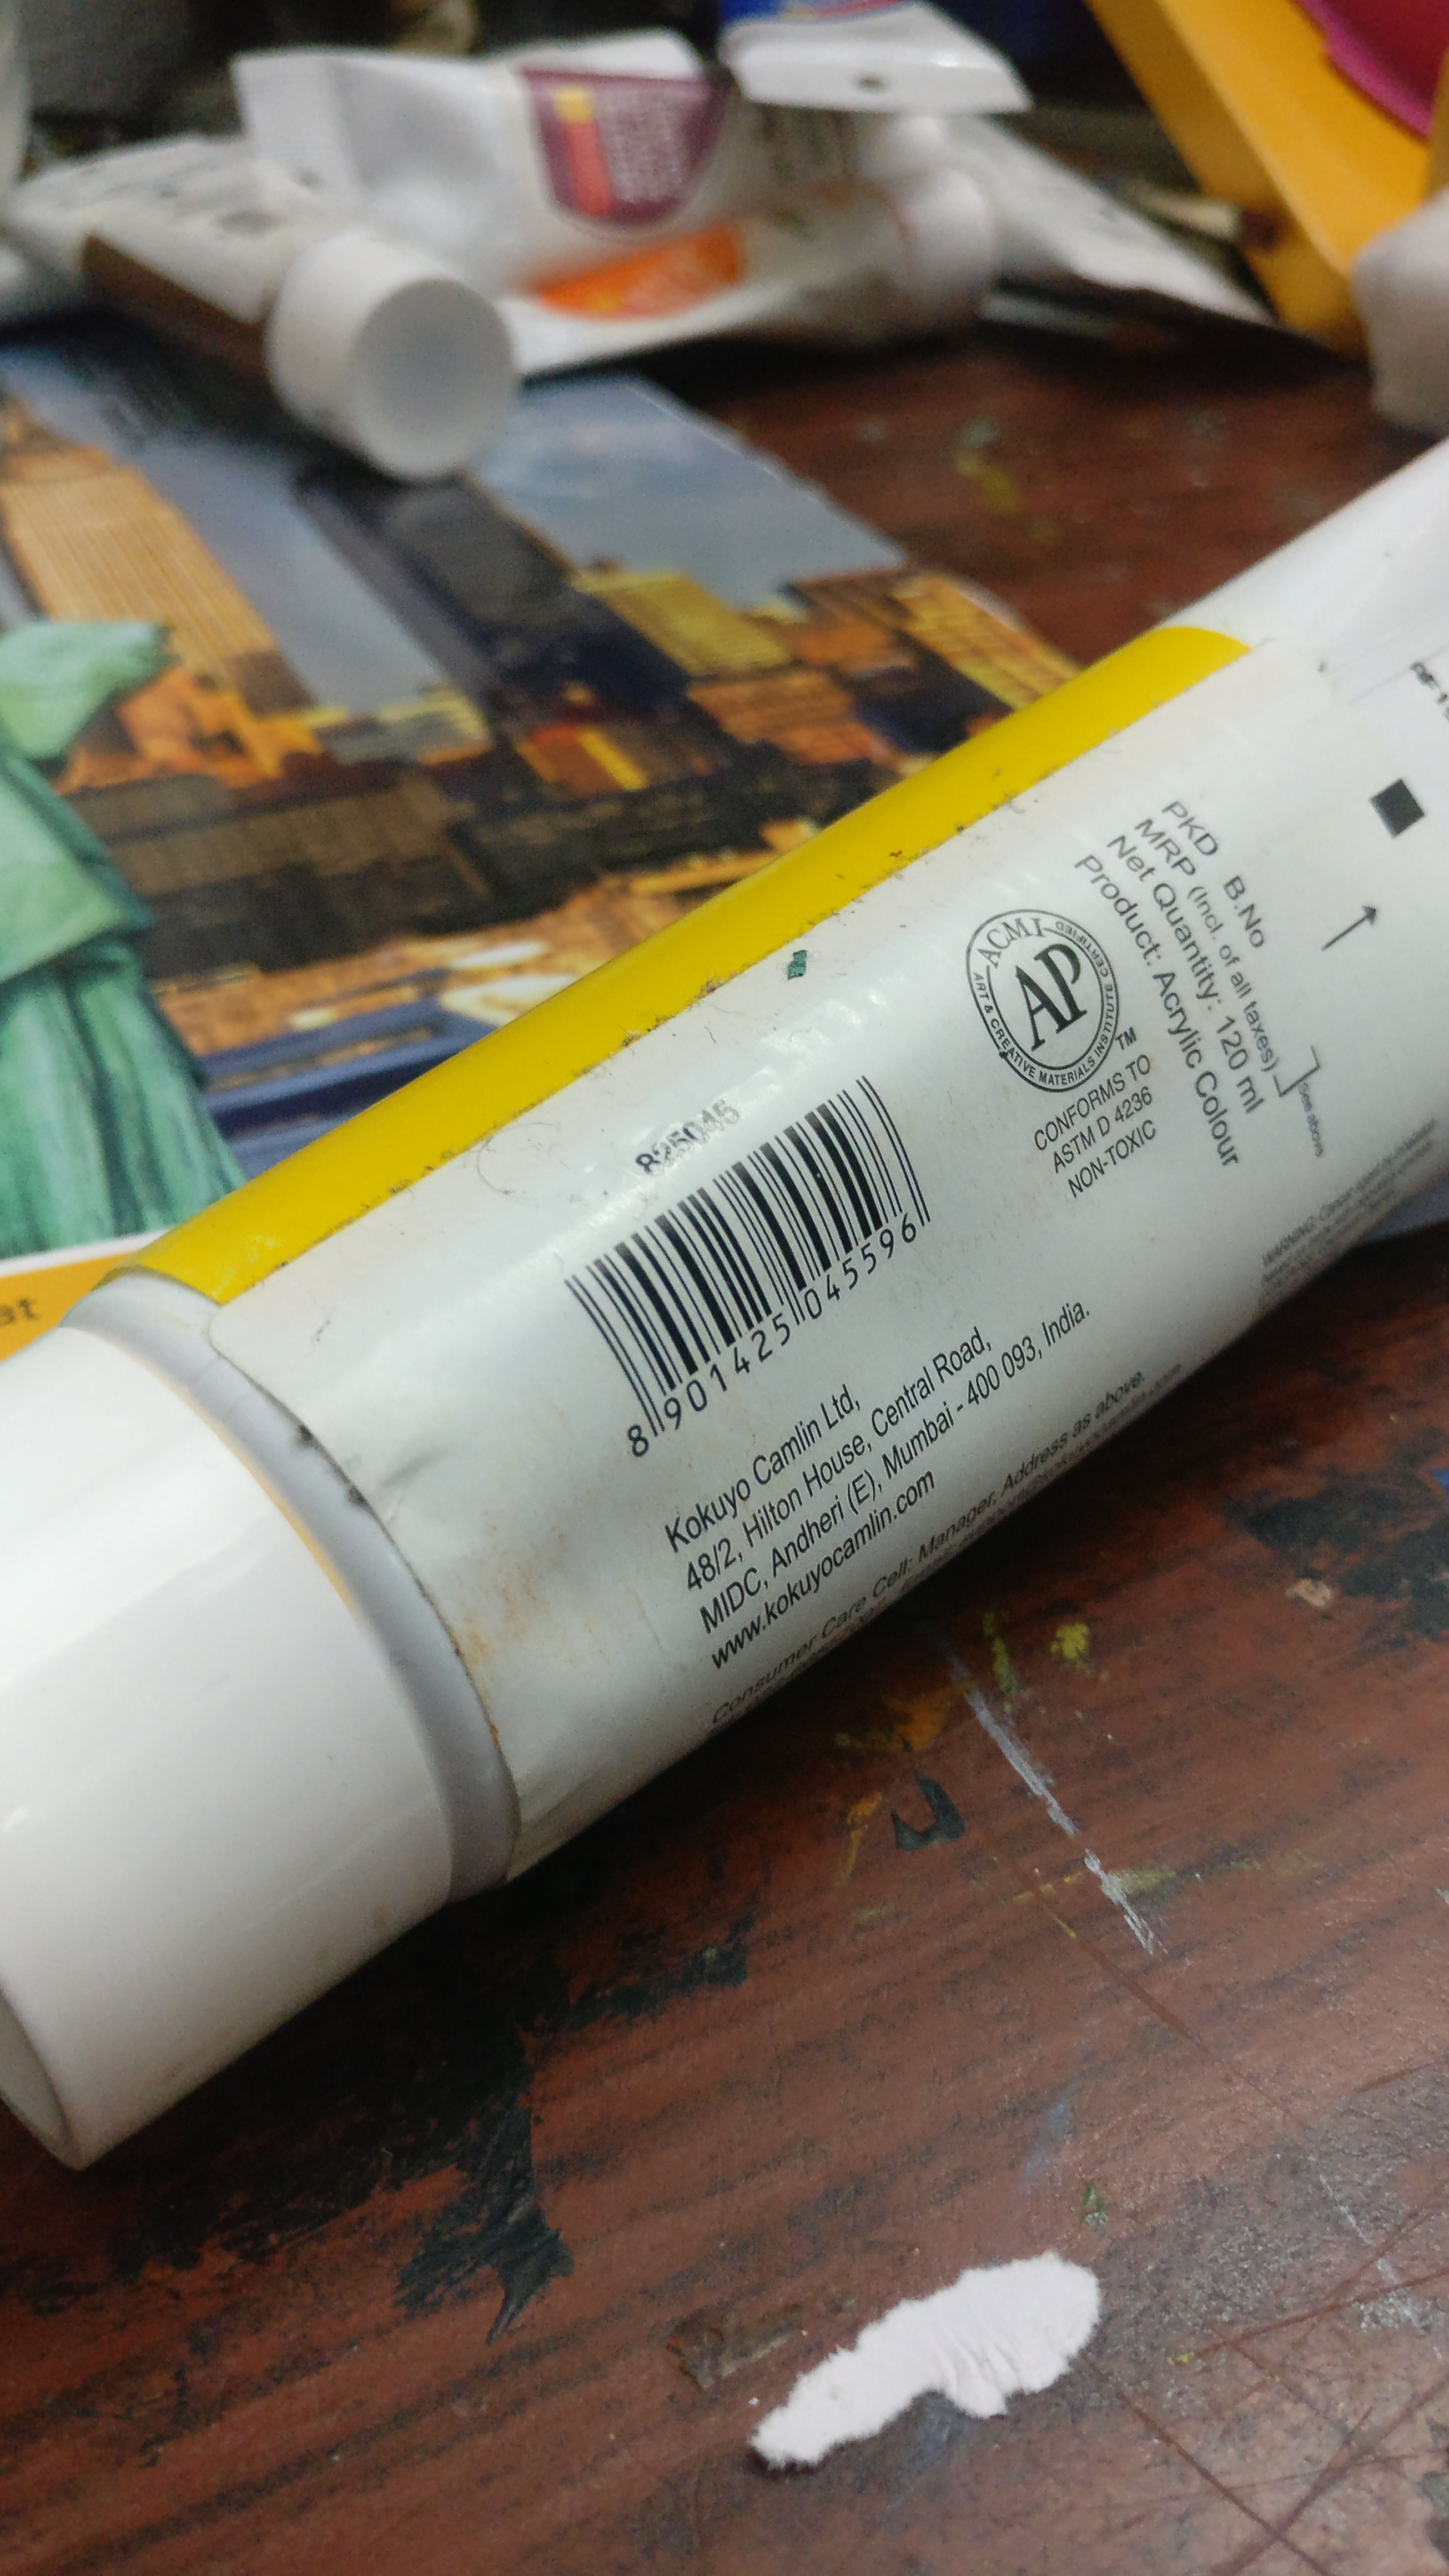barcode: (554, 1047, 931, 1479)
